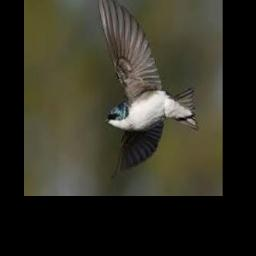Swallow: (96, 0, 198, 178)
